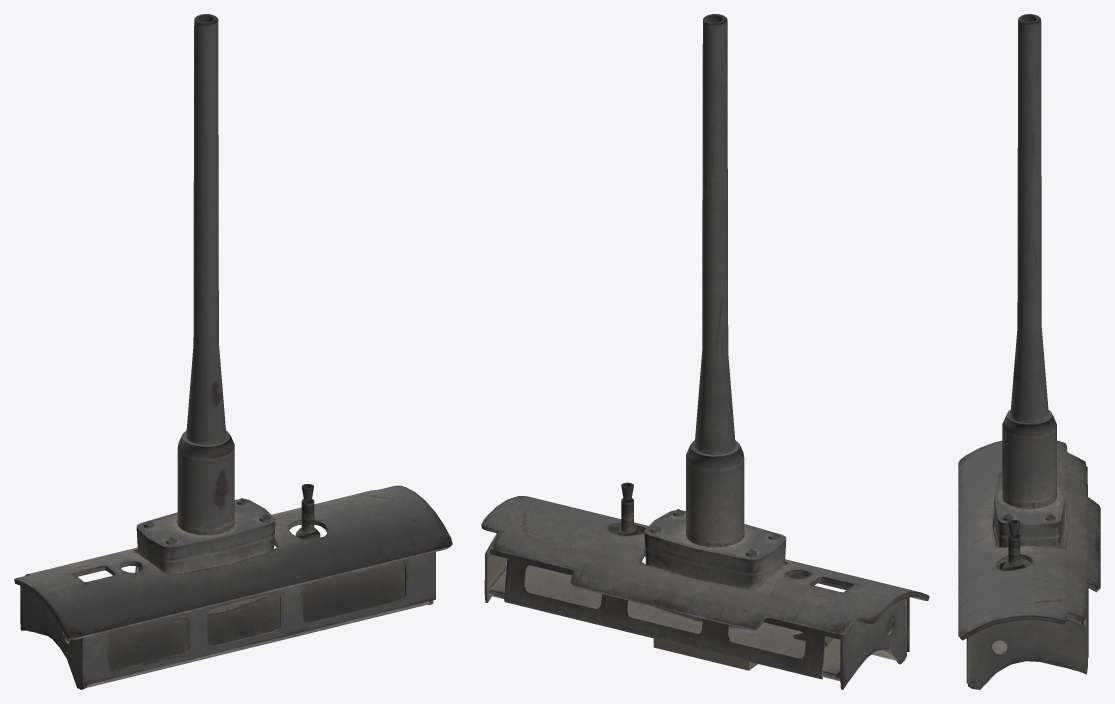
File: Gun_11.glb
3 views of the same model, side by side, from view 1: azimuth 30°, elevation 25°; view 2: azimuth 150°, elevation 25°; view 3: azimuth 270°, elevation 25° (orthographic). The views are drawn at different scales.
Visible parts, largest first — view 1: set_0_group_0; view 2: set_0_group_0; view 3: set_0_group_0.
Boxes of the visible parts, <box> form: set_0_group_0: <box>14,14,452,689</box>; set_0_group_0: <box>481,14,929,689</box>; set_0_group_0: <box>958,14,1100,689</box>.
Size of the model in its own units: 1.49 by 2.28 by 0.5025.
Materials: 1 (1 with a texture image).
